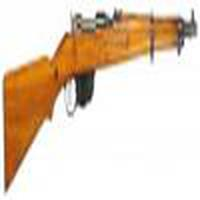gun: (12, 12, 200, 163)
